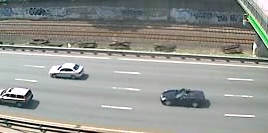car: (156, 87, 207, 111), (1, 84, 36, 109), (47, 61, 88, 82)
